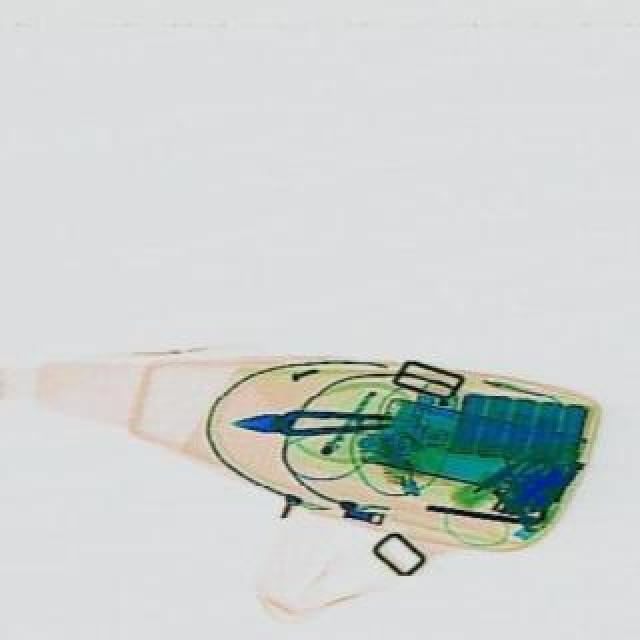pliers: (230, 382, 406, 462)
